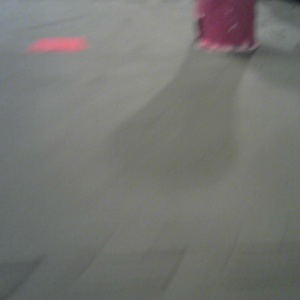right: (191, 1, 263, 55)
